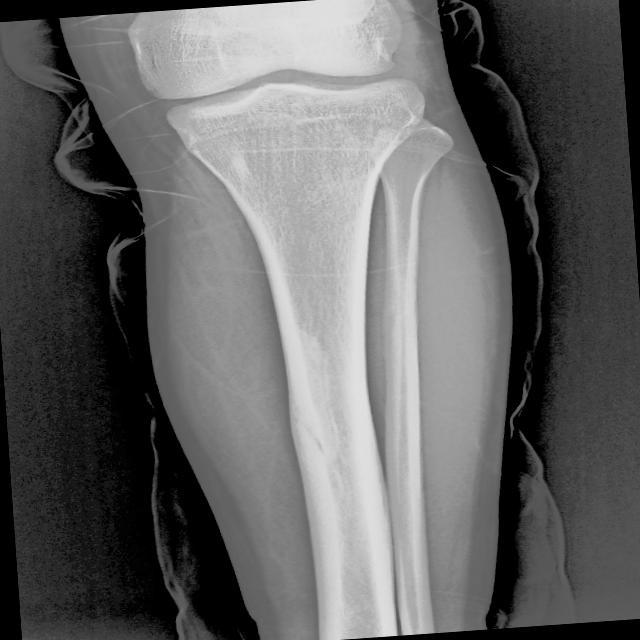HairLine Fracture: (290, 411, 329, 456)
